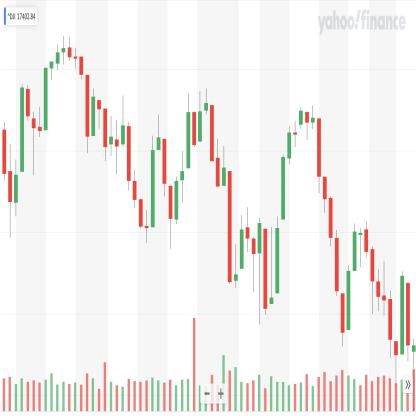Bearish: 3 Black Crows: (327, 193, 346, 351), (316, 115, 334, 250), (322, 174, 340, 298)
Bullish: 3 White Soldiers: (274, 124, 292, 296)
Bullish: Hammer: (387, 267, 405, 386)
Bullish: Morning Star Doji: (138, 133, 156, 247)
